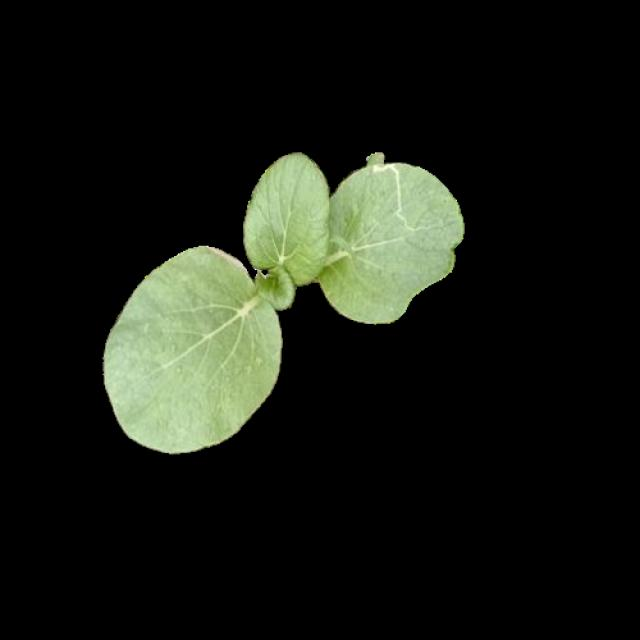not-mature: (102, 152, 464, 452)
unhealthy: (325, 152, 461, 322)
